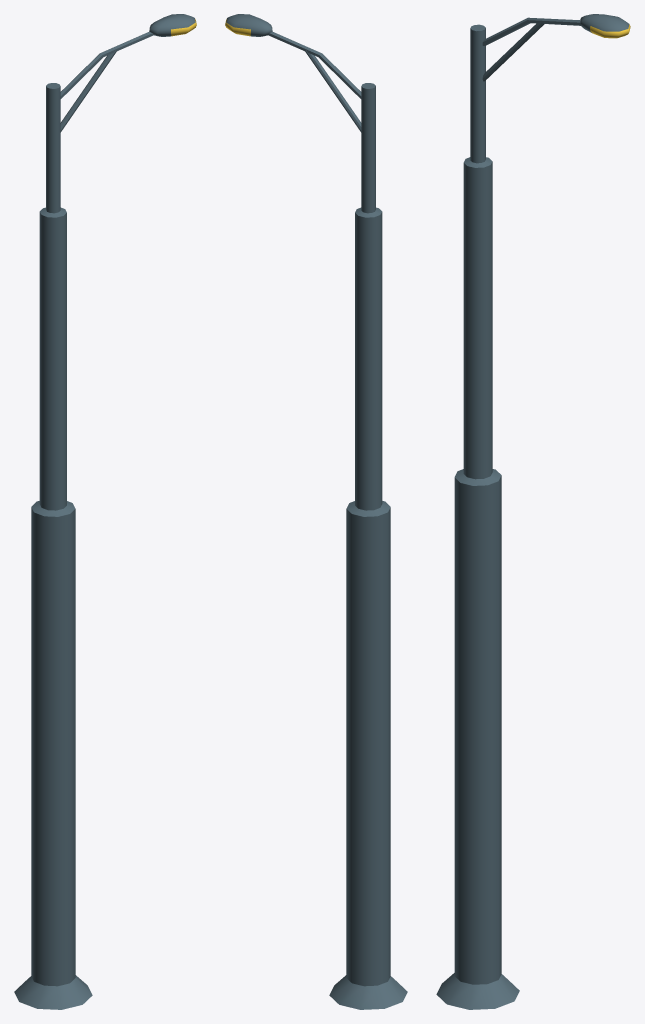
File: den_duong.fbx
3 views of the same model, side by side, from view 1: azimuth 30°, elevation 25°; view 2: azimuth 150°, elevation 25°; view 3: azimuth 330°, elevation 25° (orthographic). The views are drawn at different scales.
Visible parts, largest first — view 1: pCylinder14; view 2: pCylinder14; view 3: pCylinder14.
Boxes of the visible parts, x1=… form: pCylinder14: x1=14, y1=14, x2=196, y2=1009; pCylinder14: x1=225, y1=14, x2=407, y2=1009; pCylinder14: x1=436, y1=14, x2=630, y2=1009.
Bounding box in the file's own units: 2.47 × 12.62 × 0.9082.
